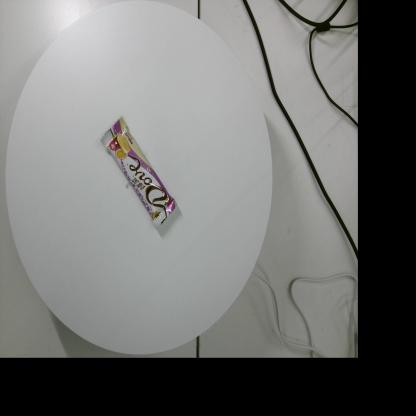Chocolate: (100, 116, 177, 229)
